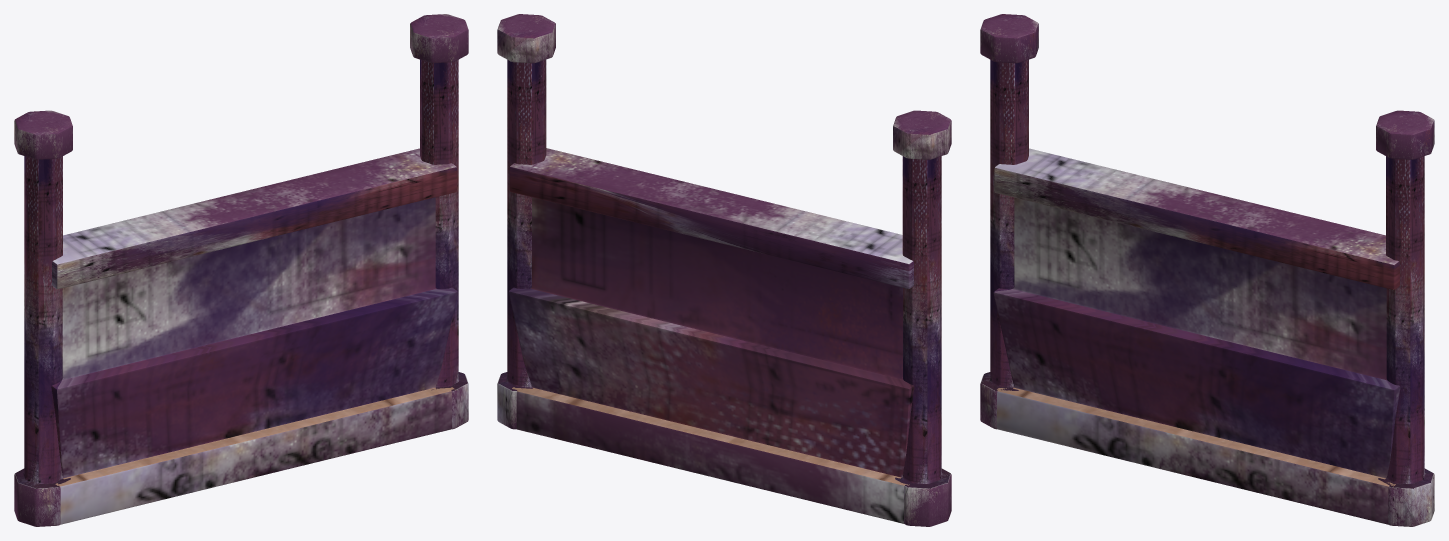
Rendered from MANOR_WALL_3_2_003.obj.
3 renders of one model, left to right at view 1: azimuth 30°, elevation 25°; view 2: azimuth 150°, elevation 25°; view 3: azimuth 330°, elevation 25°, orthographic.
Parts seen in each view (by area): view 1: MANOR_WALL_3_2_003; view 2: MANOR_WALL_3_2_003; view 3: MANOR_WALL_3_2_003.
Part boxes in pixels (left/top/right/bottom): MANOR_WALL_3_2_003: left=14, top=14, right=468, bottom=526; MANOR_WALL_3_2_003: left=497, top=14, right=951, bottom=526; MANOR_WALL_3_2_003: left=980, top=14, right=1434, bottom=526.
Size of the model in its own units: 3.57 by 3 by 0.4139.
